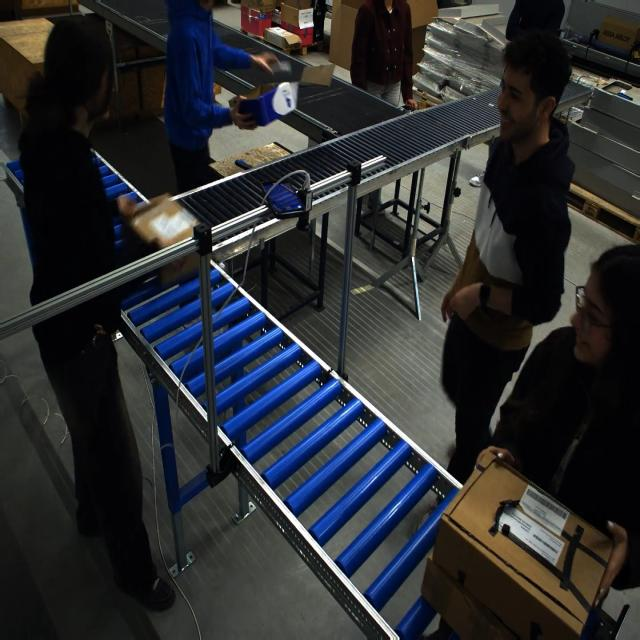box: (221, 47, 331, 142), (123, 192, 200, 281)
